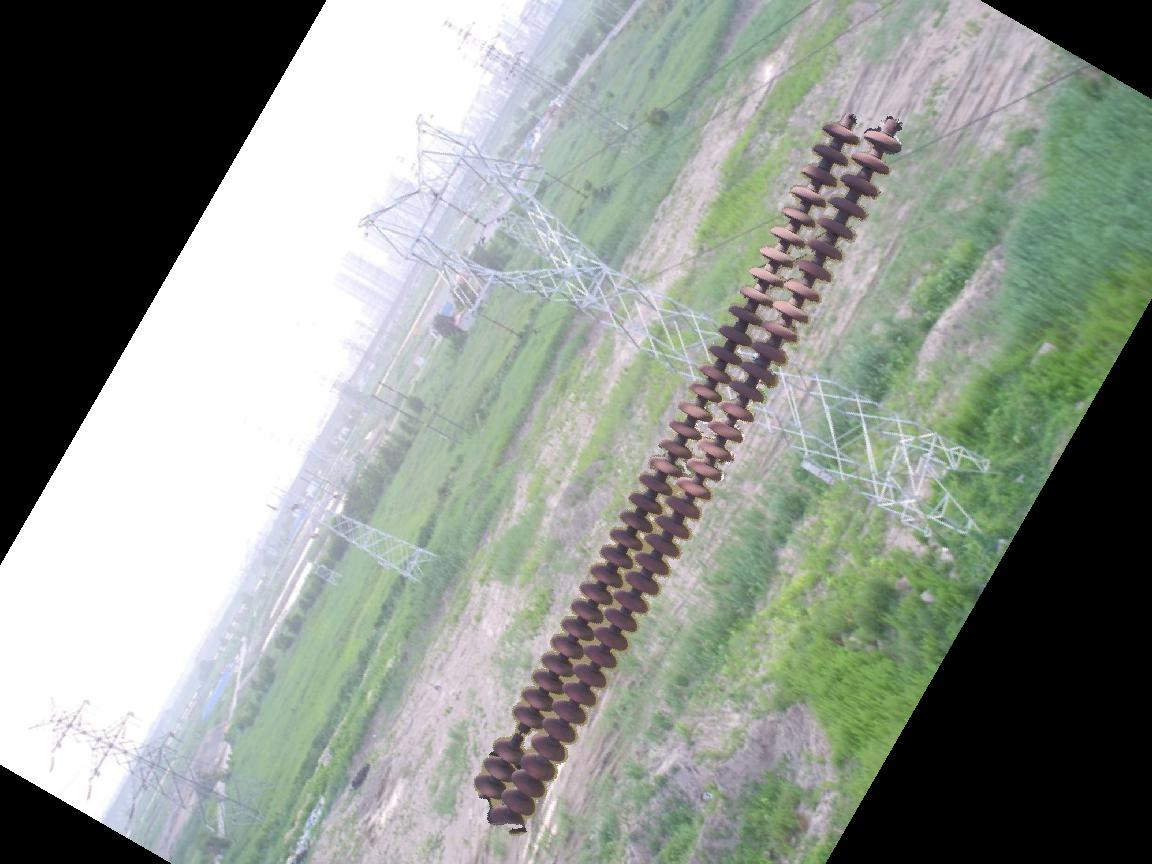insulator: (472, 117, 906, 826)
insulator_stringdrop: (491, 701, 549, 767)
